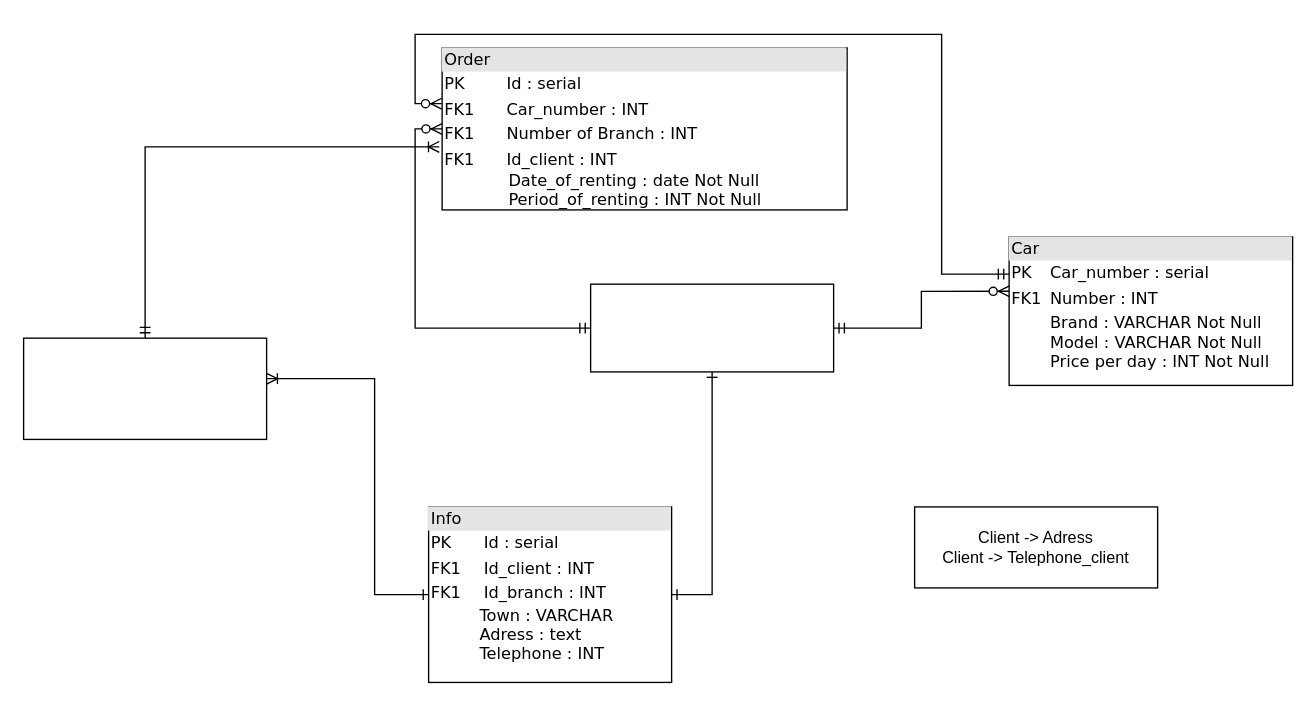
Image size: 1316x706. Some labels were removed from this diagram. Each missing label, with the box of its shape:
Branch PK Number of Branch: INT FK1 id_info: INT: (589, 283, 834, 372)
Client PK Id : serial FK1 Id_info : INT Name client: VARCHAR: (22, 337, 267, 439)
